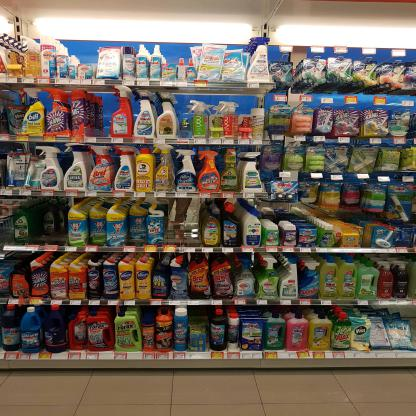Void: (170, 204, 197, 242), (40, 210, 62, 242), (98, 96, 108, 134)
